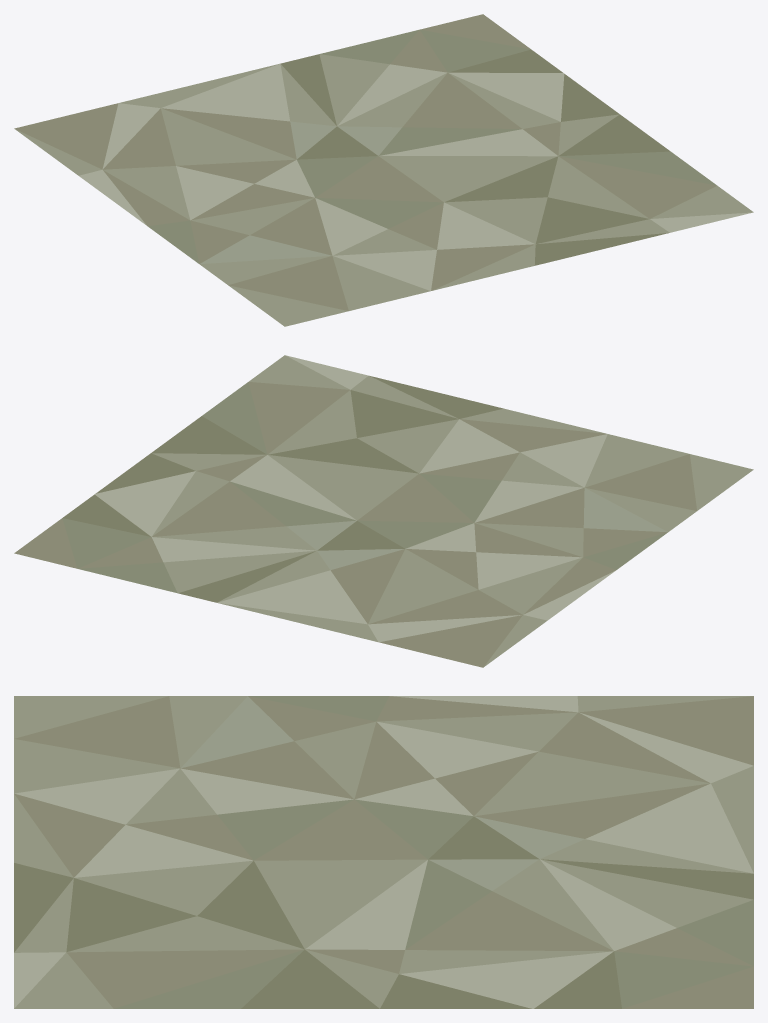
File: Terrain.fbx
3 renders of one model, top to bottom at view 1: azimuth 30°, elevation 25°; view 2: azimuth 150°, elevation 25°; view 3: azimuth 270°, elevation 25°, orthographic. The views are drawn at different scales.
Parts seen in each view (by area): view 1: Plane; view 2: Plane; view 3: Plane.
Part boxes in pixels (x1,y1,x2,y2): Plane: (14, 14, 753, 326); Plane: (14, 355, 753, 667); Plane: (14, 696, 753, 1008).
Bounding box in the file's own units: 5000 × 0 × 5000.
